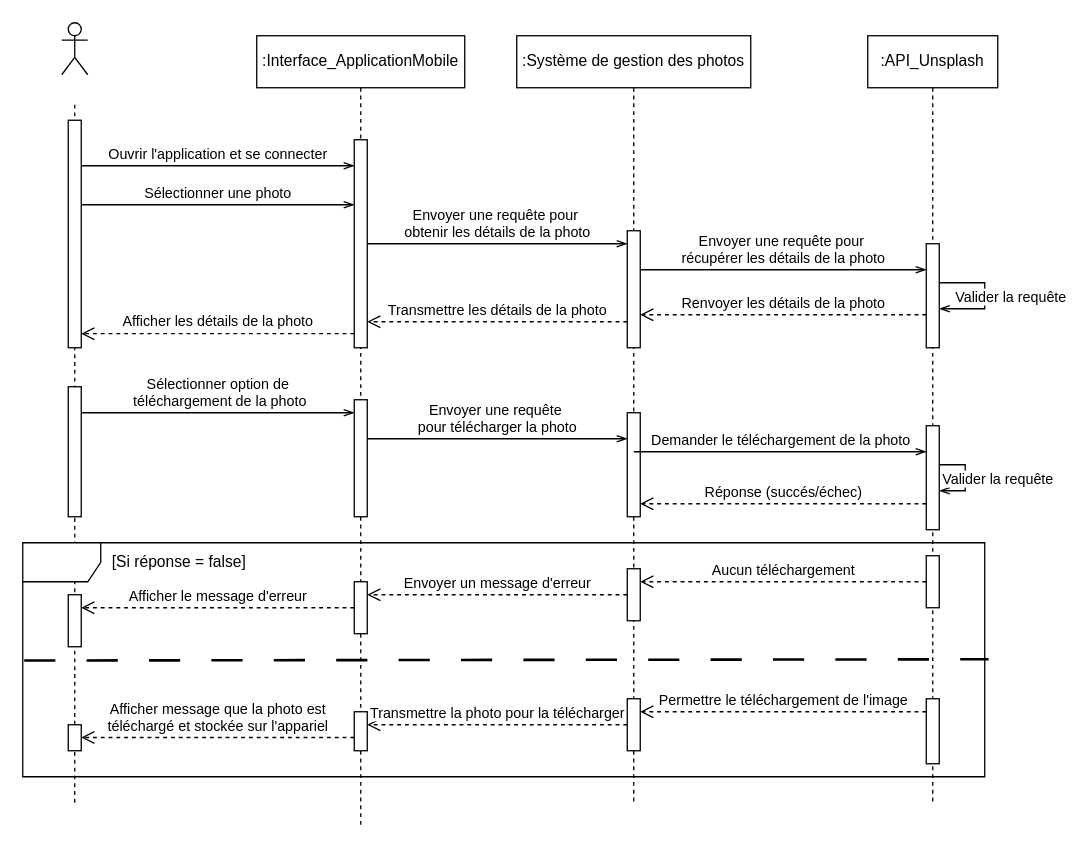
The diagram is 1088 pixels wide and 851 high, and some of its shapes have lost their labels. The shapes that lost their labels are listed below. From the top down, each one's box as (x1, y1, x2, y2) in pixels, then its label:
(60, 21, 88, 75): Utilisateur
(21, 541, 985, 777): alt
